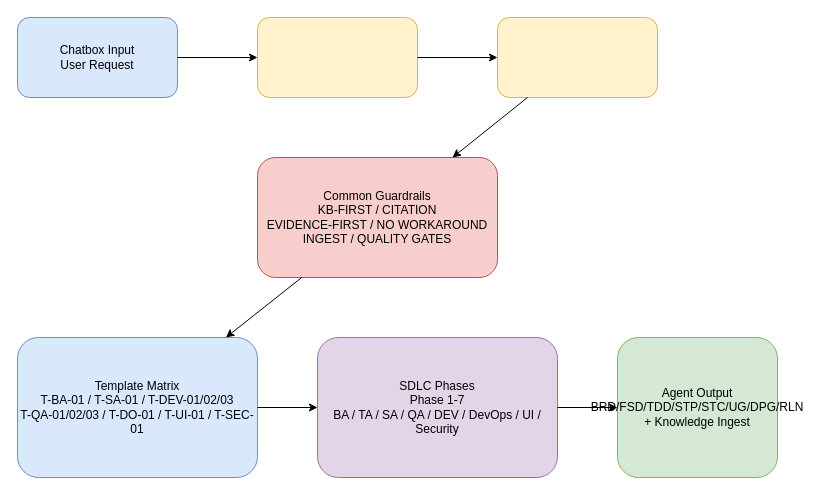
The diagram is 821 pixels wide and 495 high, and some of its shapes have lost their labels. Each missing label, with the centre of its shape:
"agent-configurator.ts AGENT_PROMPTS" goes at [337,57].
"PromptTemplateService Template Discovery" goes at [577,57].
